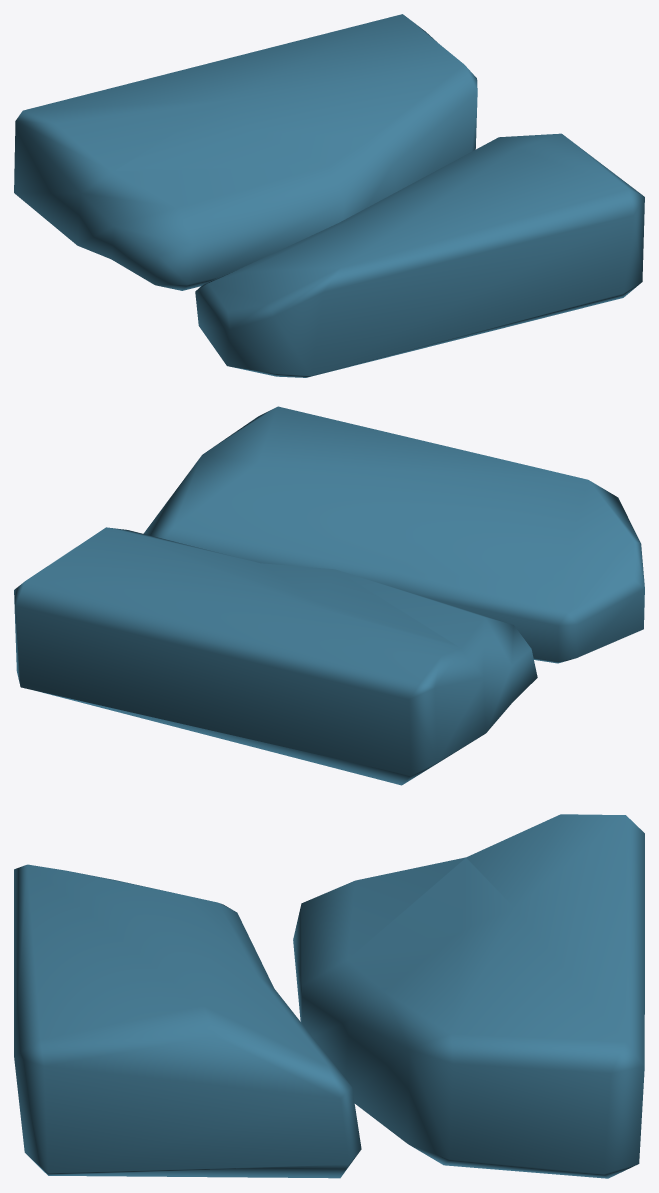
Rendered from Floor_05_Slab_Lod0.fbx.
3 views of the same model, one above another, from view 1: azimuth 30°, elevation 25°; view 2: azimuth 150°, elevation 25°; view 3: azimuth 270°, elevation 25° (orthographic). The views are drawn at different scales.
Visible parts, largest first — view 1: Floor_05_Slab_Lod0; view 2: Floor_05_Slab_Lod0; view 3: Floor_05_Slab_Lod0.
Part boxes in pixels (box(x1,y1,x2,y2)): Floor_05_Slab_Lod0: box(14, 14, 644, 377); Floor_05_Slab_Lod0: box(14, 406, 644, 785); Floor_05_Slab_Lod0: box(14, 814, 644, 1178).
Size of the model in its own units: 36.32 by 9.85 by 38.81.
